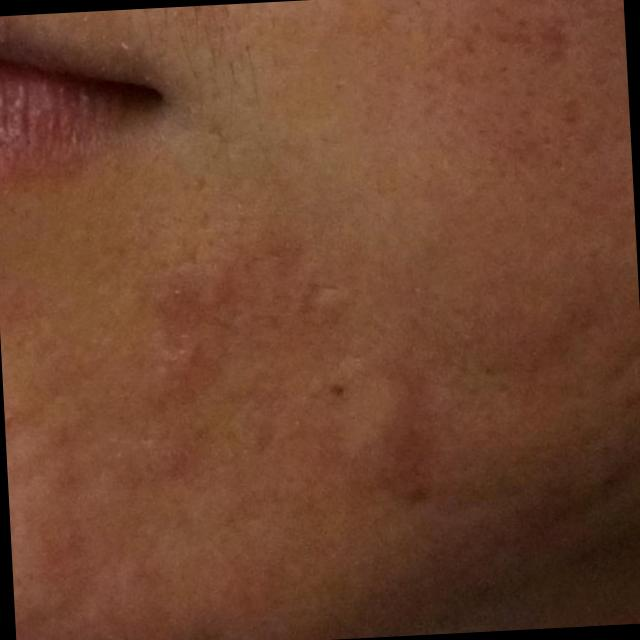blackhead: (328, 385, 344, 397), (484, 367, 494, 376)
nodule: (328, 366, 424, 496)
